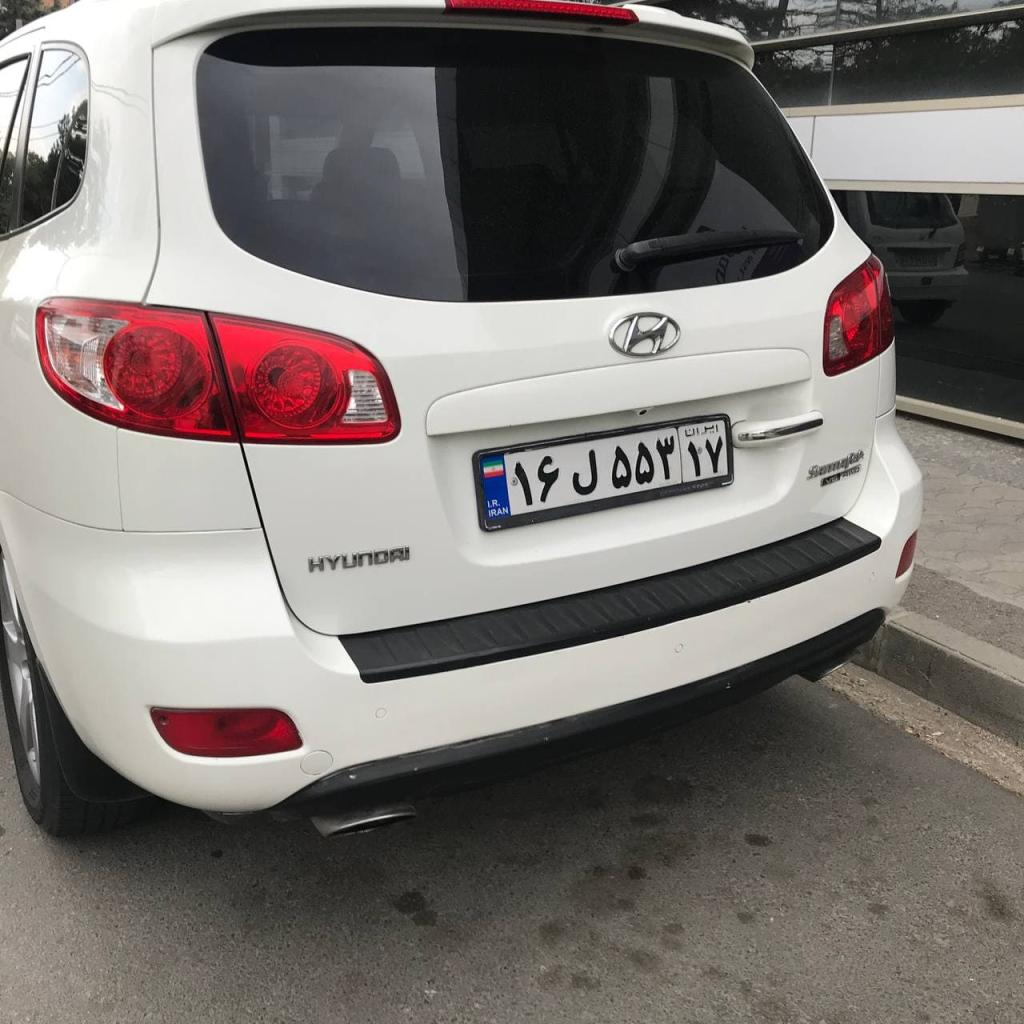Plates: (480, 419, 727, 520)
